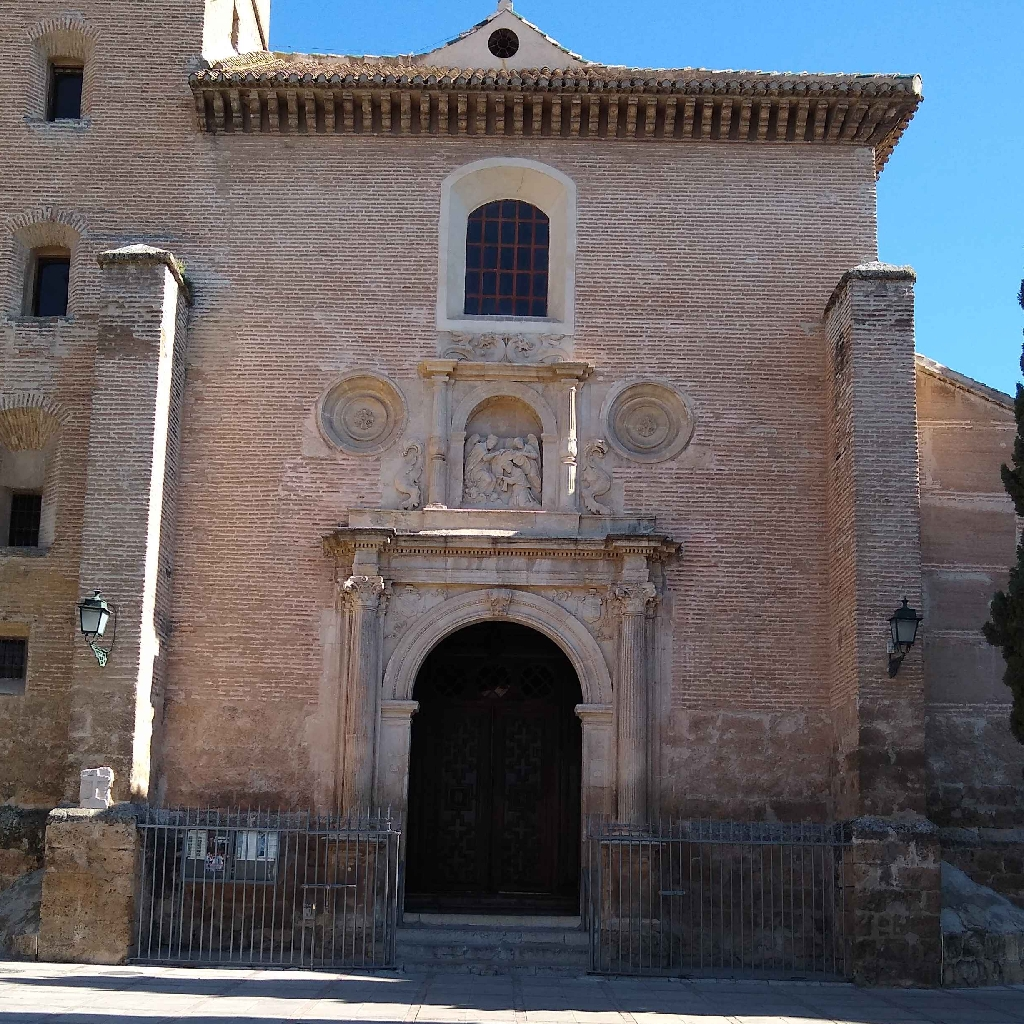arco-medio-punto: (397, 600, 603, 733), (458, 389, 549, 452)
